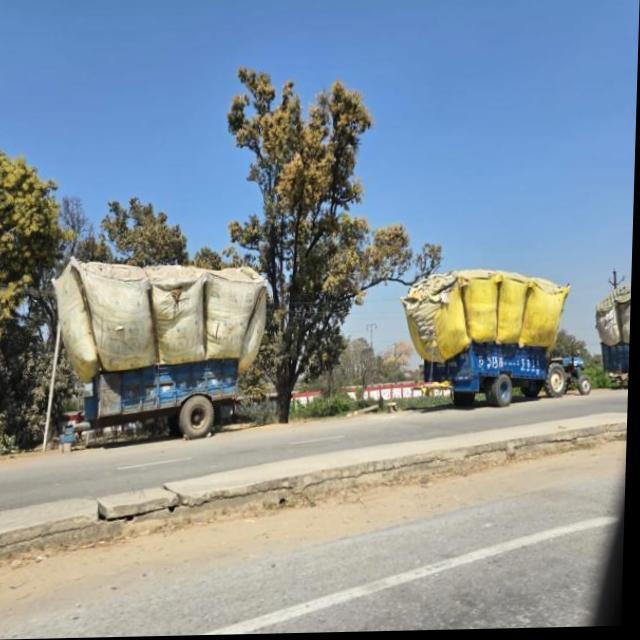covered: (72, 266, 261, 454), (412, 280, 576, 412), (588, 282, 634, 352)
